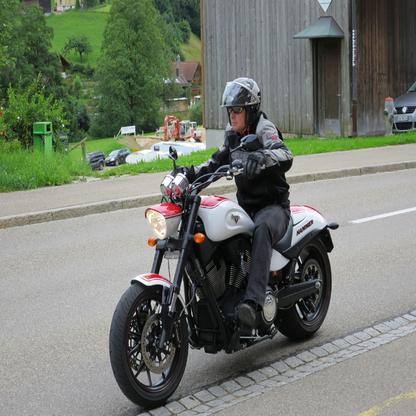target: (108, 76, 340, 406)
